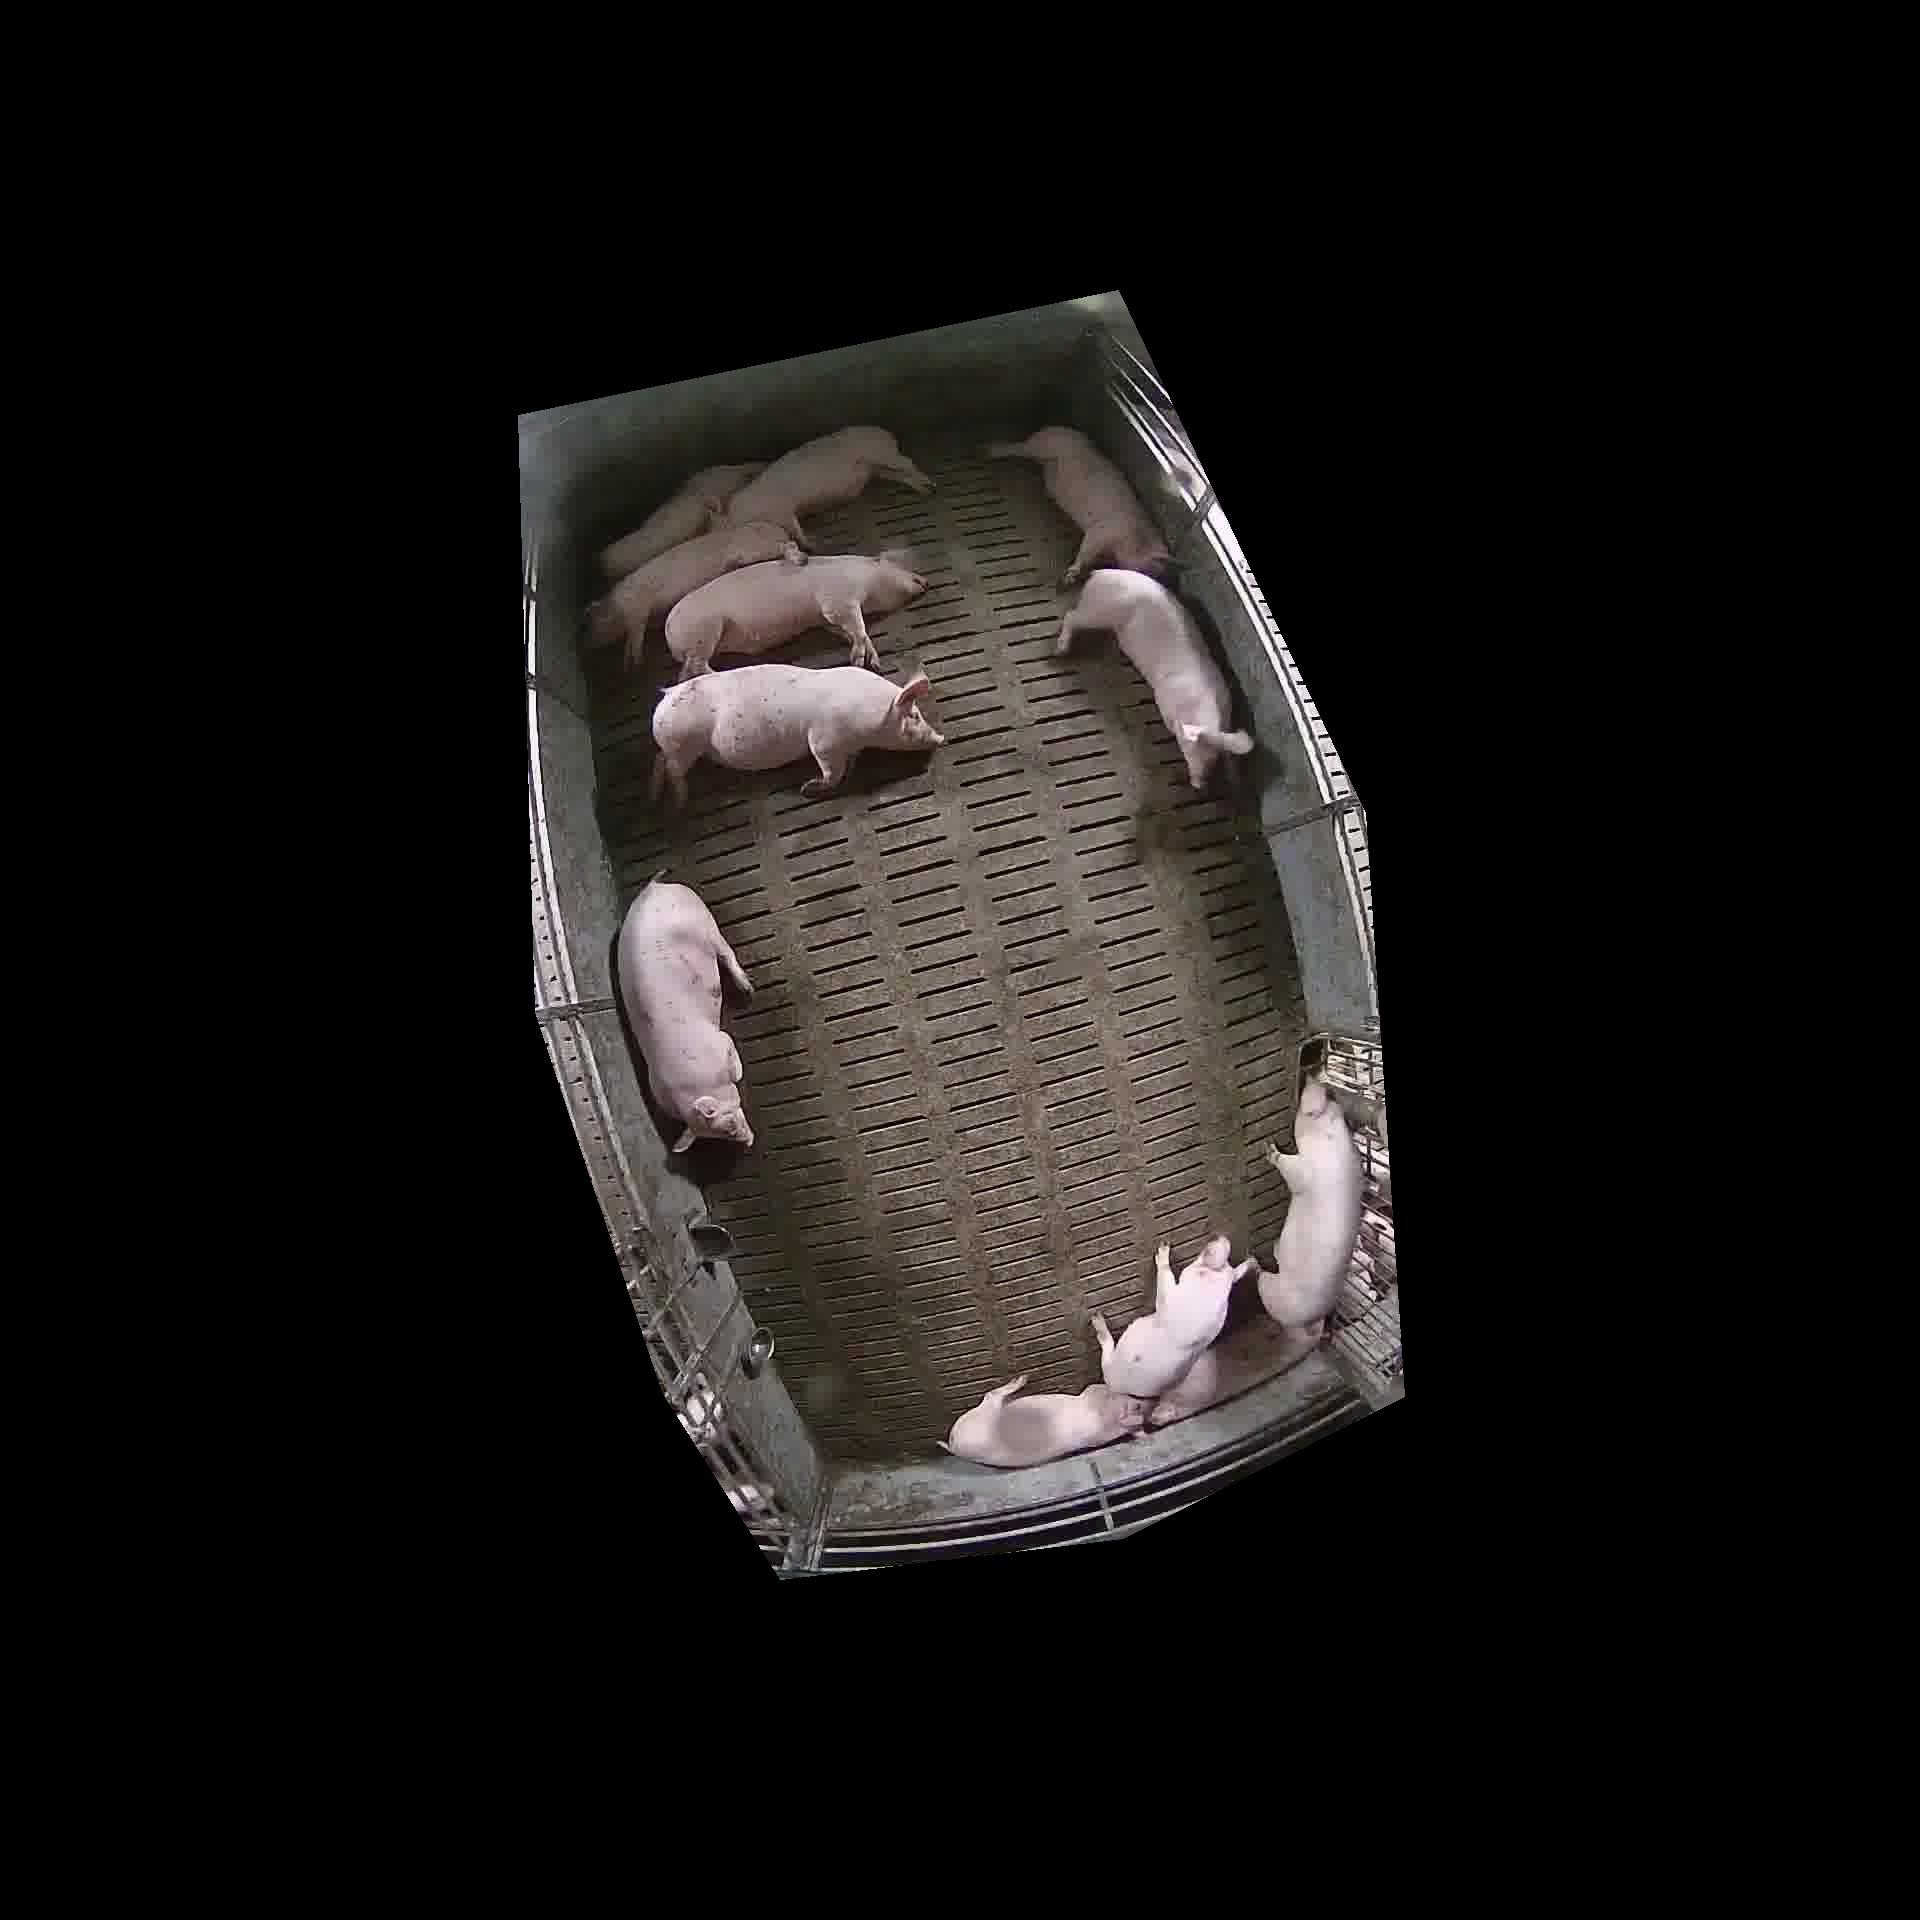pig: (1055, 568, 1248, 791), (652, 665, 942, 805), (617, 879, 753, 1152), (665, 552, 927, 679), (587, 520, 802, 666), (986, 425, 1169, 584), (1257, 1081, 1363, 1342), (988, 425, 1167, 578), (1092, 1236, 1255, 1398), (724, 425, 932, 545), (594, 462, 763, 578), (1145, 1313, 1312, 1428), (948, 1377, 1146, 1466)
